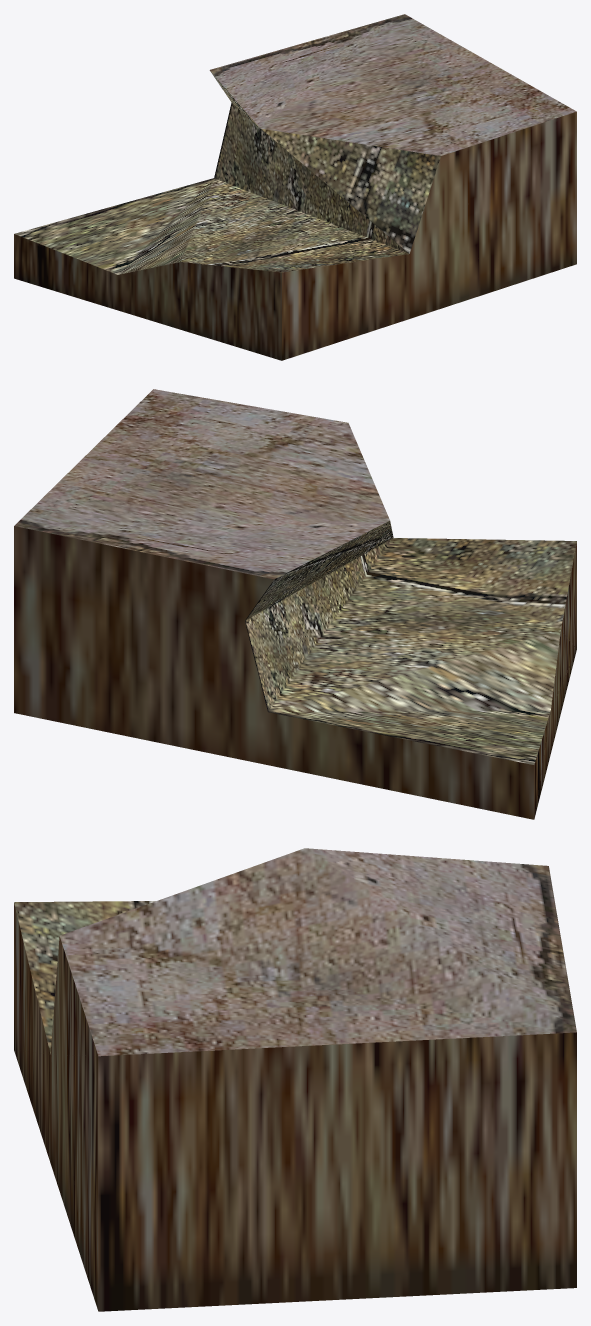
The model's file is small_rubble_var3.fbx.
3 views of the same model, one above another, from view 1: azimuth 30°, elevation 25°; view 2: azimuth 150°, elevation 25°; view 3: azimuth 270°, elevation 25° (orthographic). The views are drawn at different scales.
Parts seen in each view (by area): view 1: mesh_2, mesh_0, mesh_1; view 2: mesh_2, mesh_0, mesh_1; view 3: mesh_2, mesh_1, mesh_0.
Part boxes in pixels (bbox=[...]): mesh_2: bbox=[14, 111, 576, 360]; mesh_0: bbox=[14, 71, 440, 274]; mesh_1: bbox=[210, 14, 576, 155]; mesh_2: bbox=[14, 526, 576, 819]; mesh_0: bbox=[245, 521, 576, 764]; mesh_1: bbox=[14, 389, 389, 579]; mesh_2: bbox=[14, 903, 576, 1311]; mesh_1: bbox=[59, 848, 576, 1056]; mesh_0: bbox=[14, 901, 155, 1053].
Bounding box in the file's own units: 26.86 × 8.97 × 17.91.
Materials: 3 (3 with a texture image).
